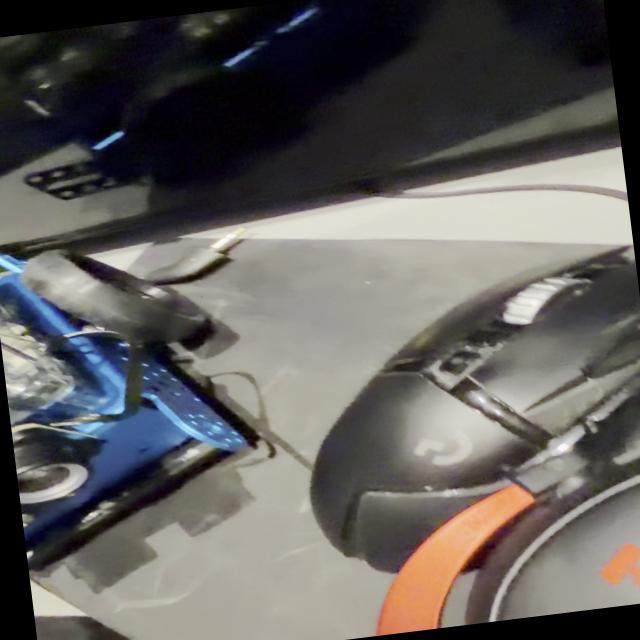mbot-detection: (0, 201, 277, 585)
